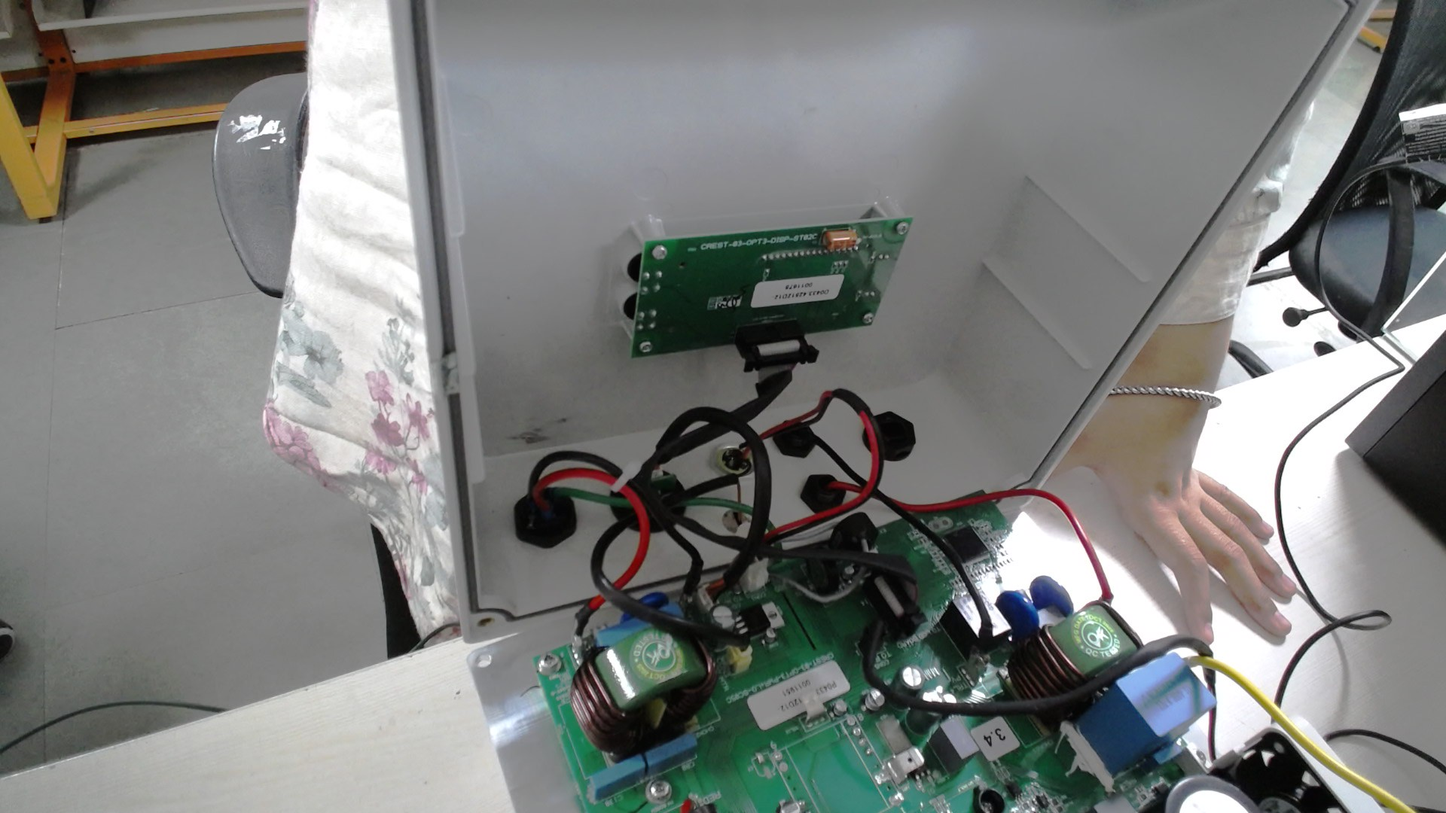wire_red: (497, 456, 589, 551)
